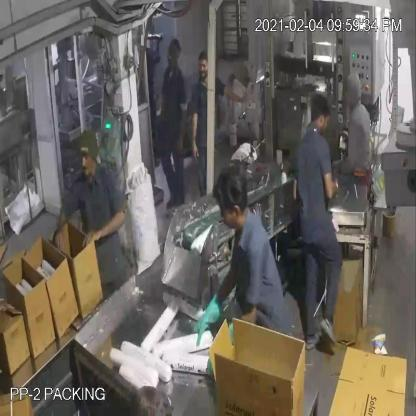glove: (189, 292, 226, 347)
no_glove: (82, 210, 136, 256), (187, 93, 207, 172), (216, 78, 258, 110), (320, 158, 347, 206), (53, 194, 70, 268)
